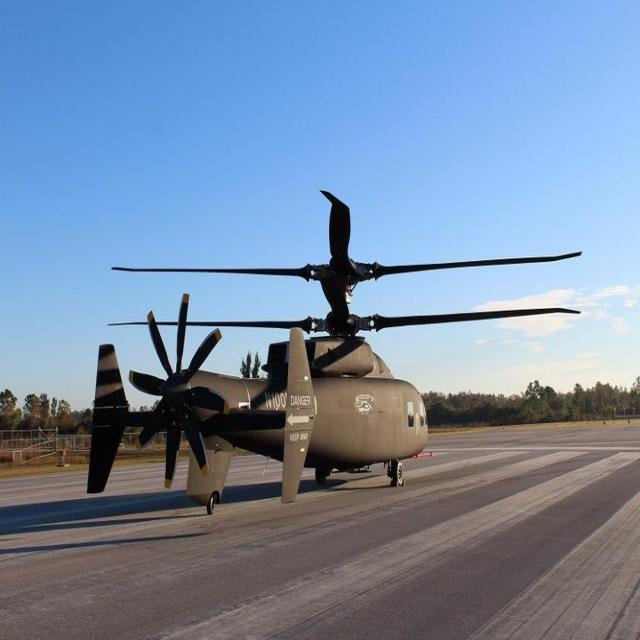MIL_HELO: (62, 187, 592, 507)
